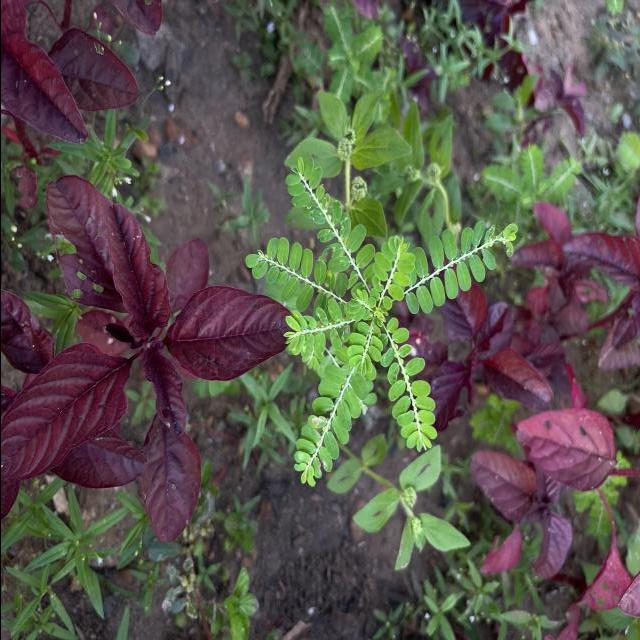Phyllanthus niruri: (283, 154, 375, 282), (402, 217, 516, 315), (290, 352, 369, 488), (242, 234, 348, 318), (378, 315, 439, 454), (281, 297, 351, 363), (370, 235, 414, 308)
